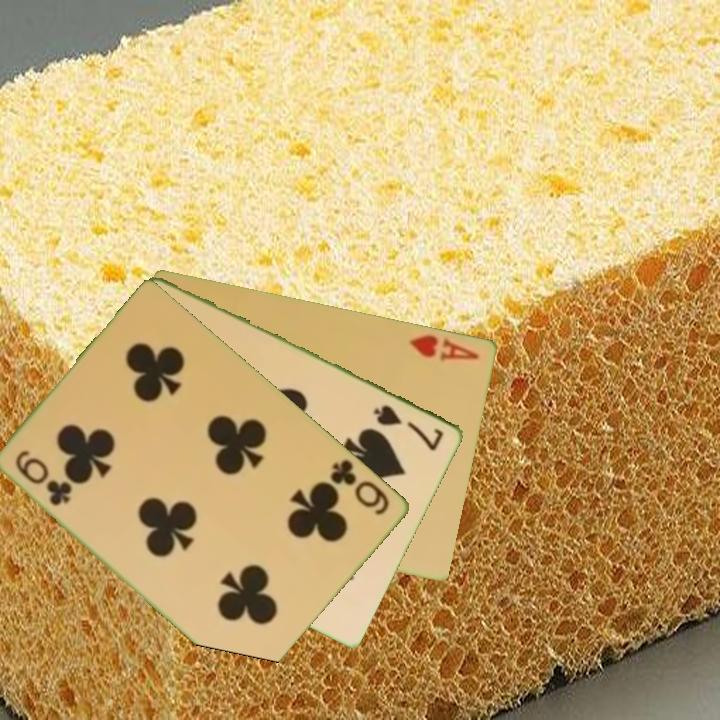6c: (327, 455, 393, 519), (12, 447, 75, 509)
7s: (371, 401, 447, 454)
Ah: (406, 330, 482, 364)
